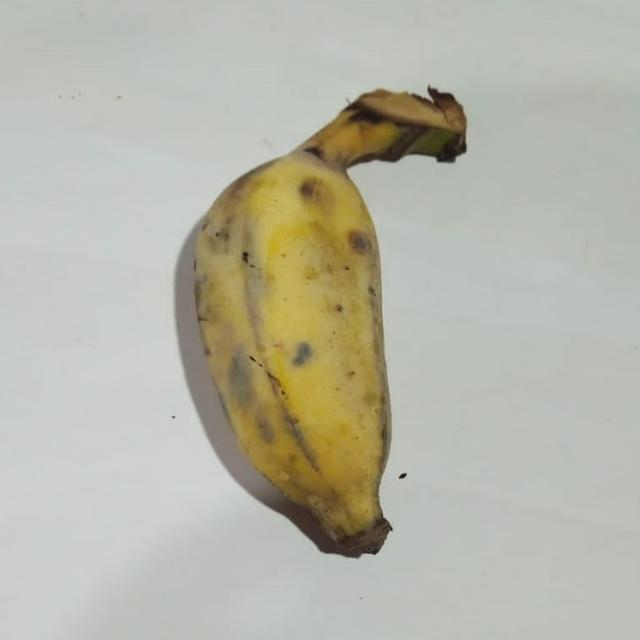banana: (196, 89, 466, 554)
